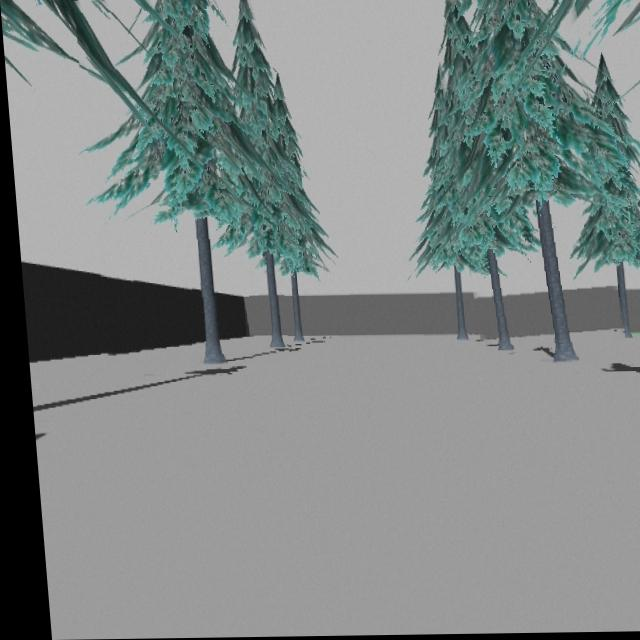tree: (89, 0, 269, 365), (447, 0, 590, 362)
